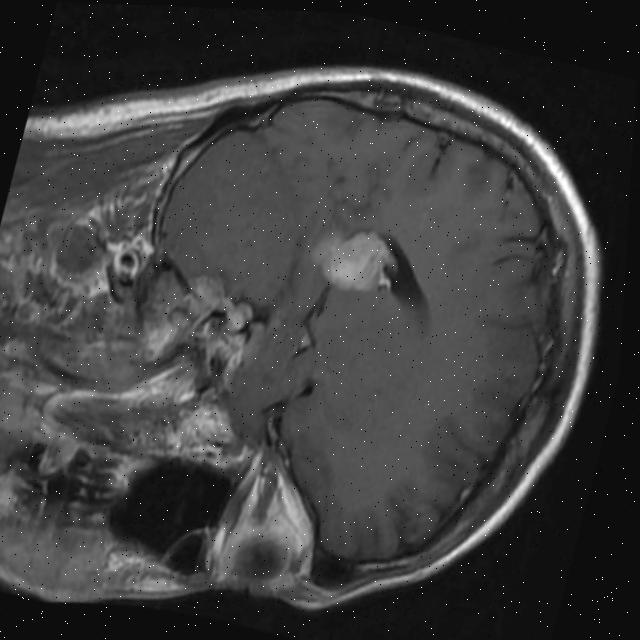Meningioma: (304, 220, 406, 304)
